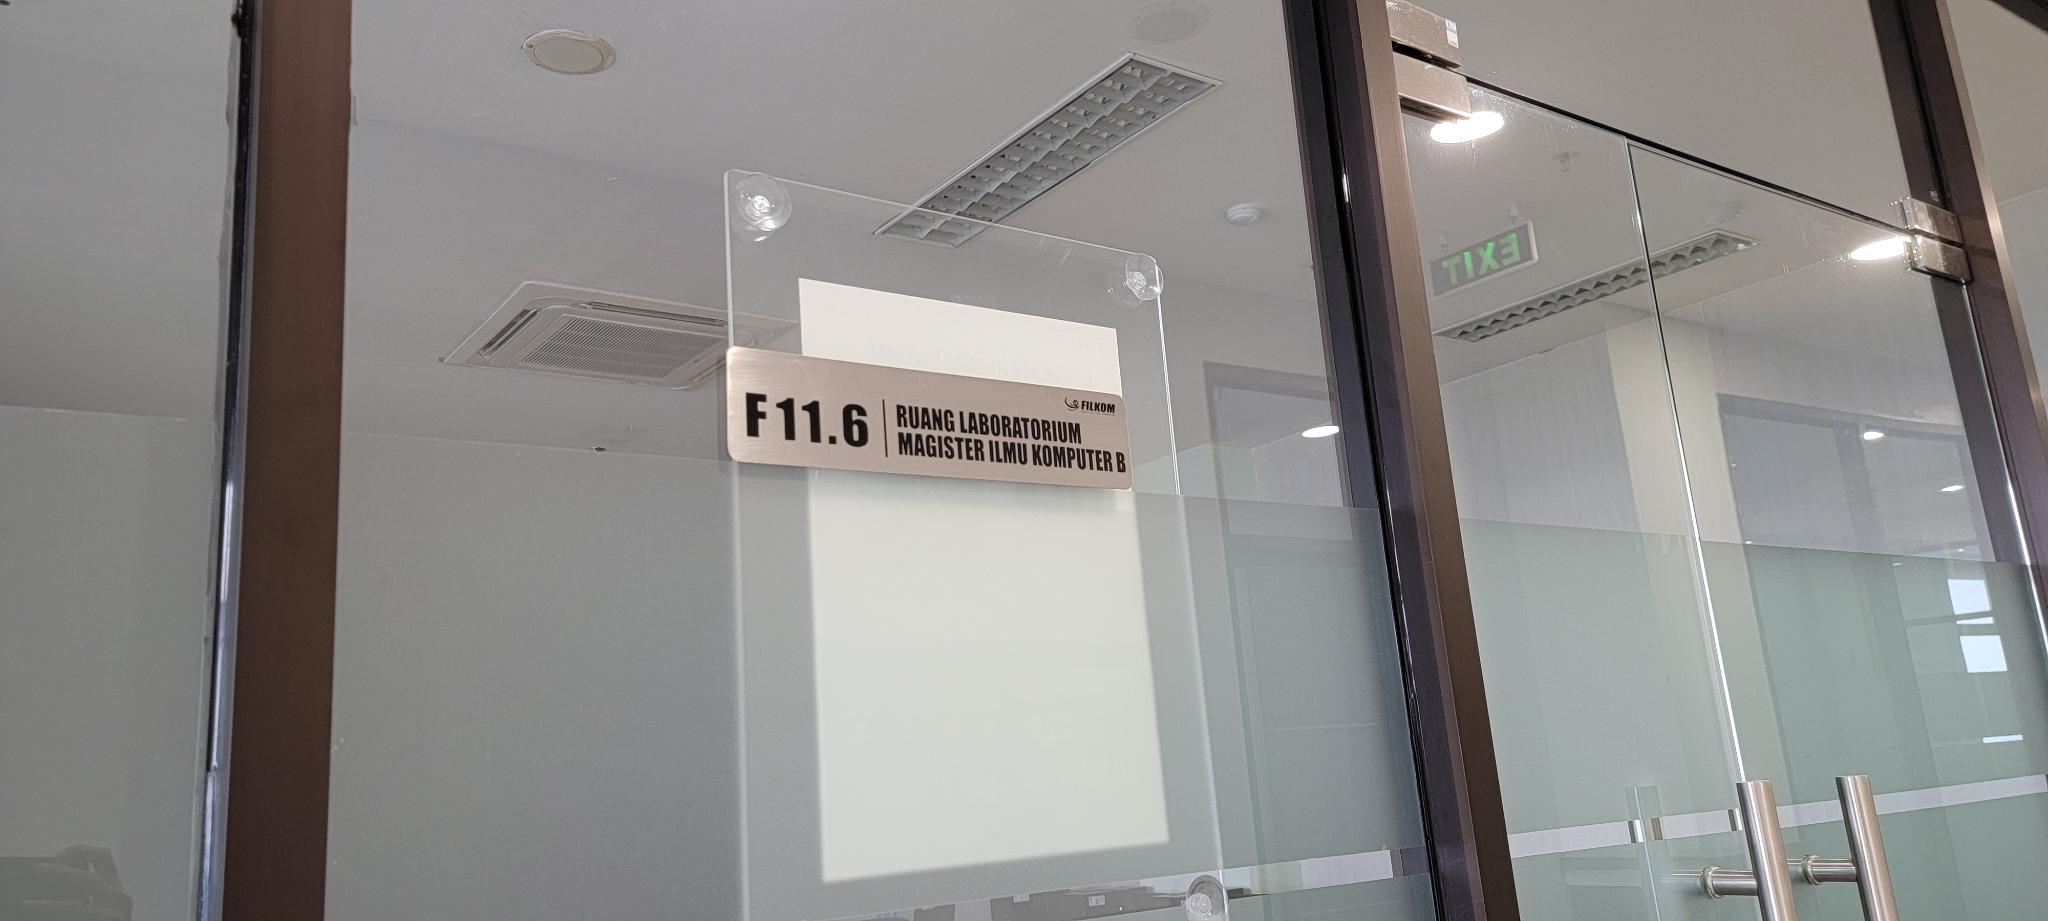plate: (724, 344, 1134, 491)
